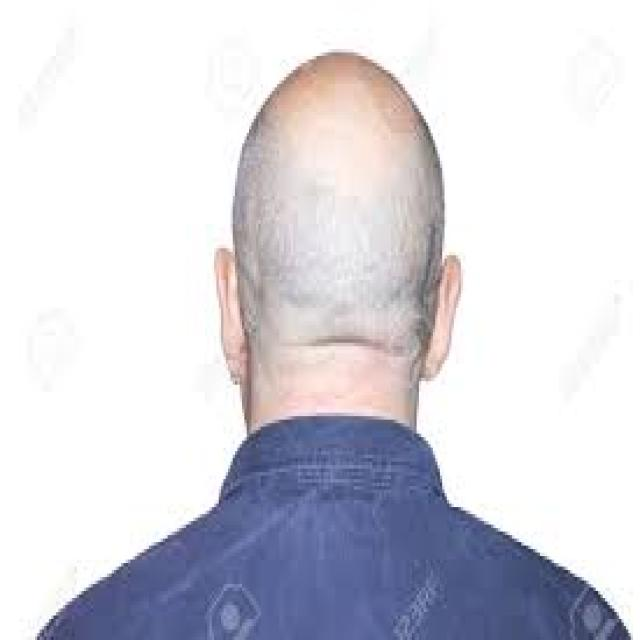Non_Helmet: (207, 42, 471, 406)
